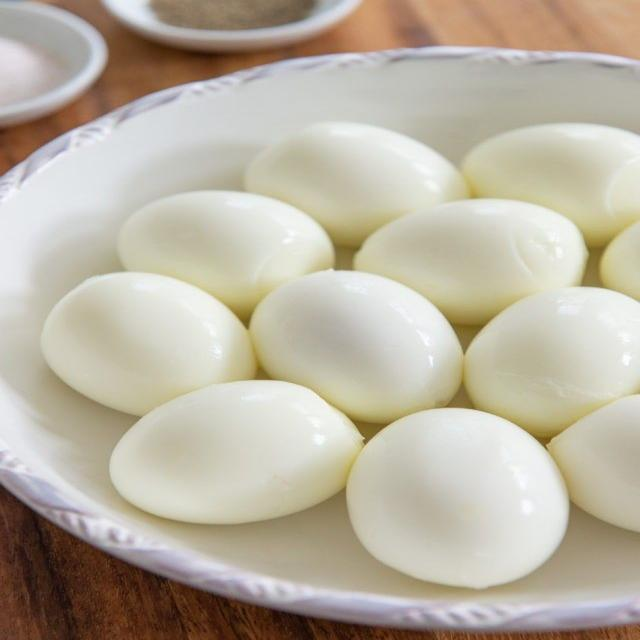egg boiled: (347, 408, 569, 588), (110, 380, 362, 524), (250, 270, 461, 423), (42, 272, 257, 415), (354, 198, 586, 325), (117, 191, 334, 320), (245, 122, 468, 247), (463, 286, 639, 436), (462, 123, 639, 247), (547, 395, 639, 532)
